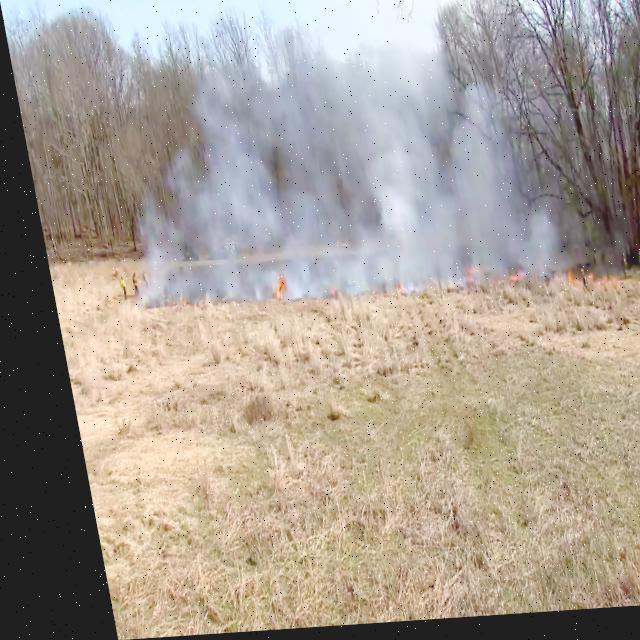Fire: (260, 277, 278, 304), (586, 278, 610, 294), (554, 276, 572, 296), (496, 276, 507, 288)
